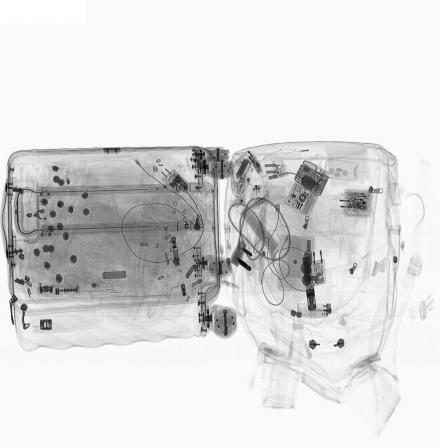Lighter: (297, 303, 332, 317)
